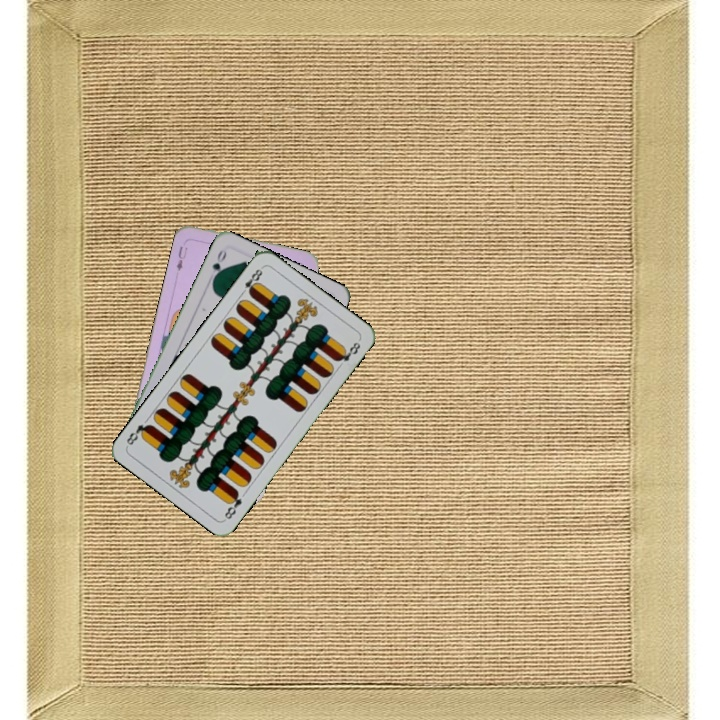E8: (236, 263, 266, 298), (220, 487, 245, 522)
EU: (172, 242, 190, 274)
GO: (205, 246, 229, 285)
